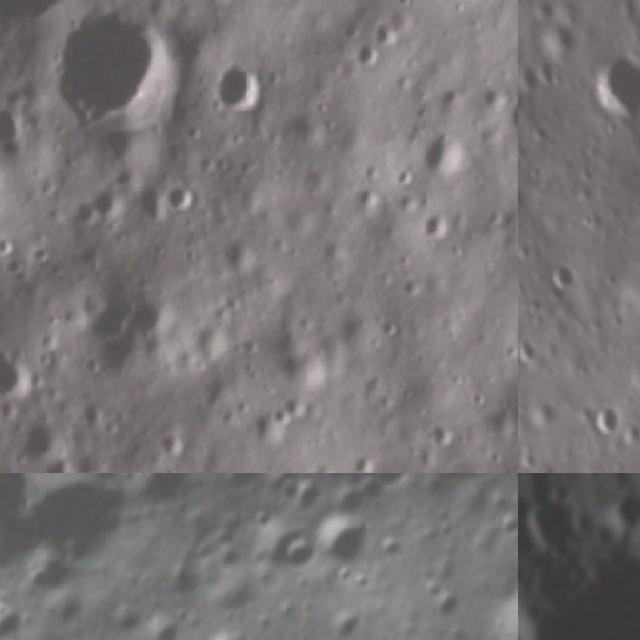crater: (518, 537, 640, 640), (49, 17, 155, 129), (299, 495, 386, 582), (115, 473, 223, 528), (522, 482, 592, 558), (203, 55, 271, 121), (264, 522, 326, 584), (593, 47, 640, 120), (588, 396, 632, 455), (415, 473, 503, 502), (0, 583, 44, 640), (133, 604, 196, 640), (598, 478, 640, 531), (11, 421, 59, 464), (419, 135, 468, 177), (0, 345, 35, 403), (209, 473, 275, 503), (364, 473, 428, 503), (195, 618, 263, 640), (164, 178, 201, 217), (79, 473, 142, 494), (0, 97, 22, 157), (556, 555, 595, 586), (502, 85, 518, 140), (41, 456, 81, 473), (630, 502, 640, 551)
